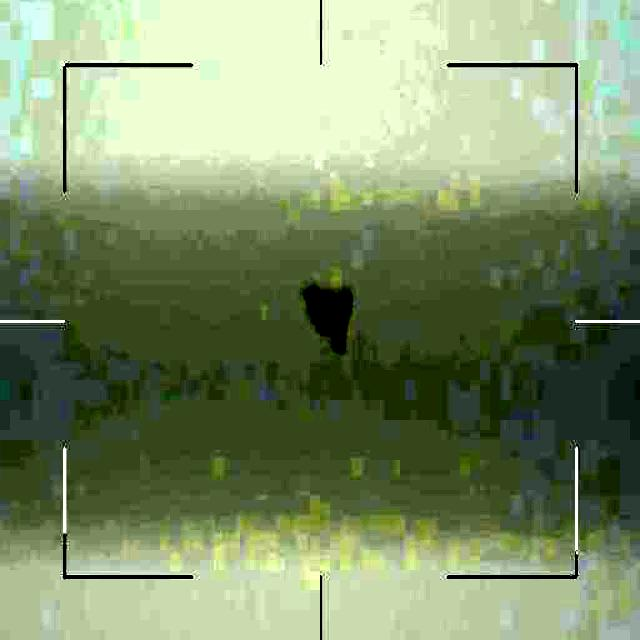bird: (306, 280, 361, 354)
